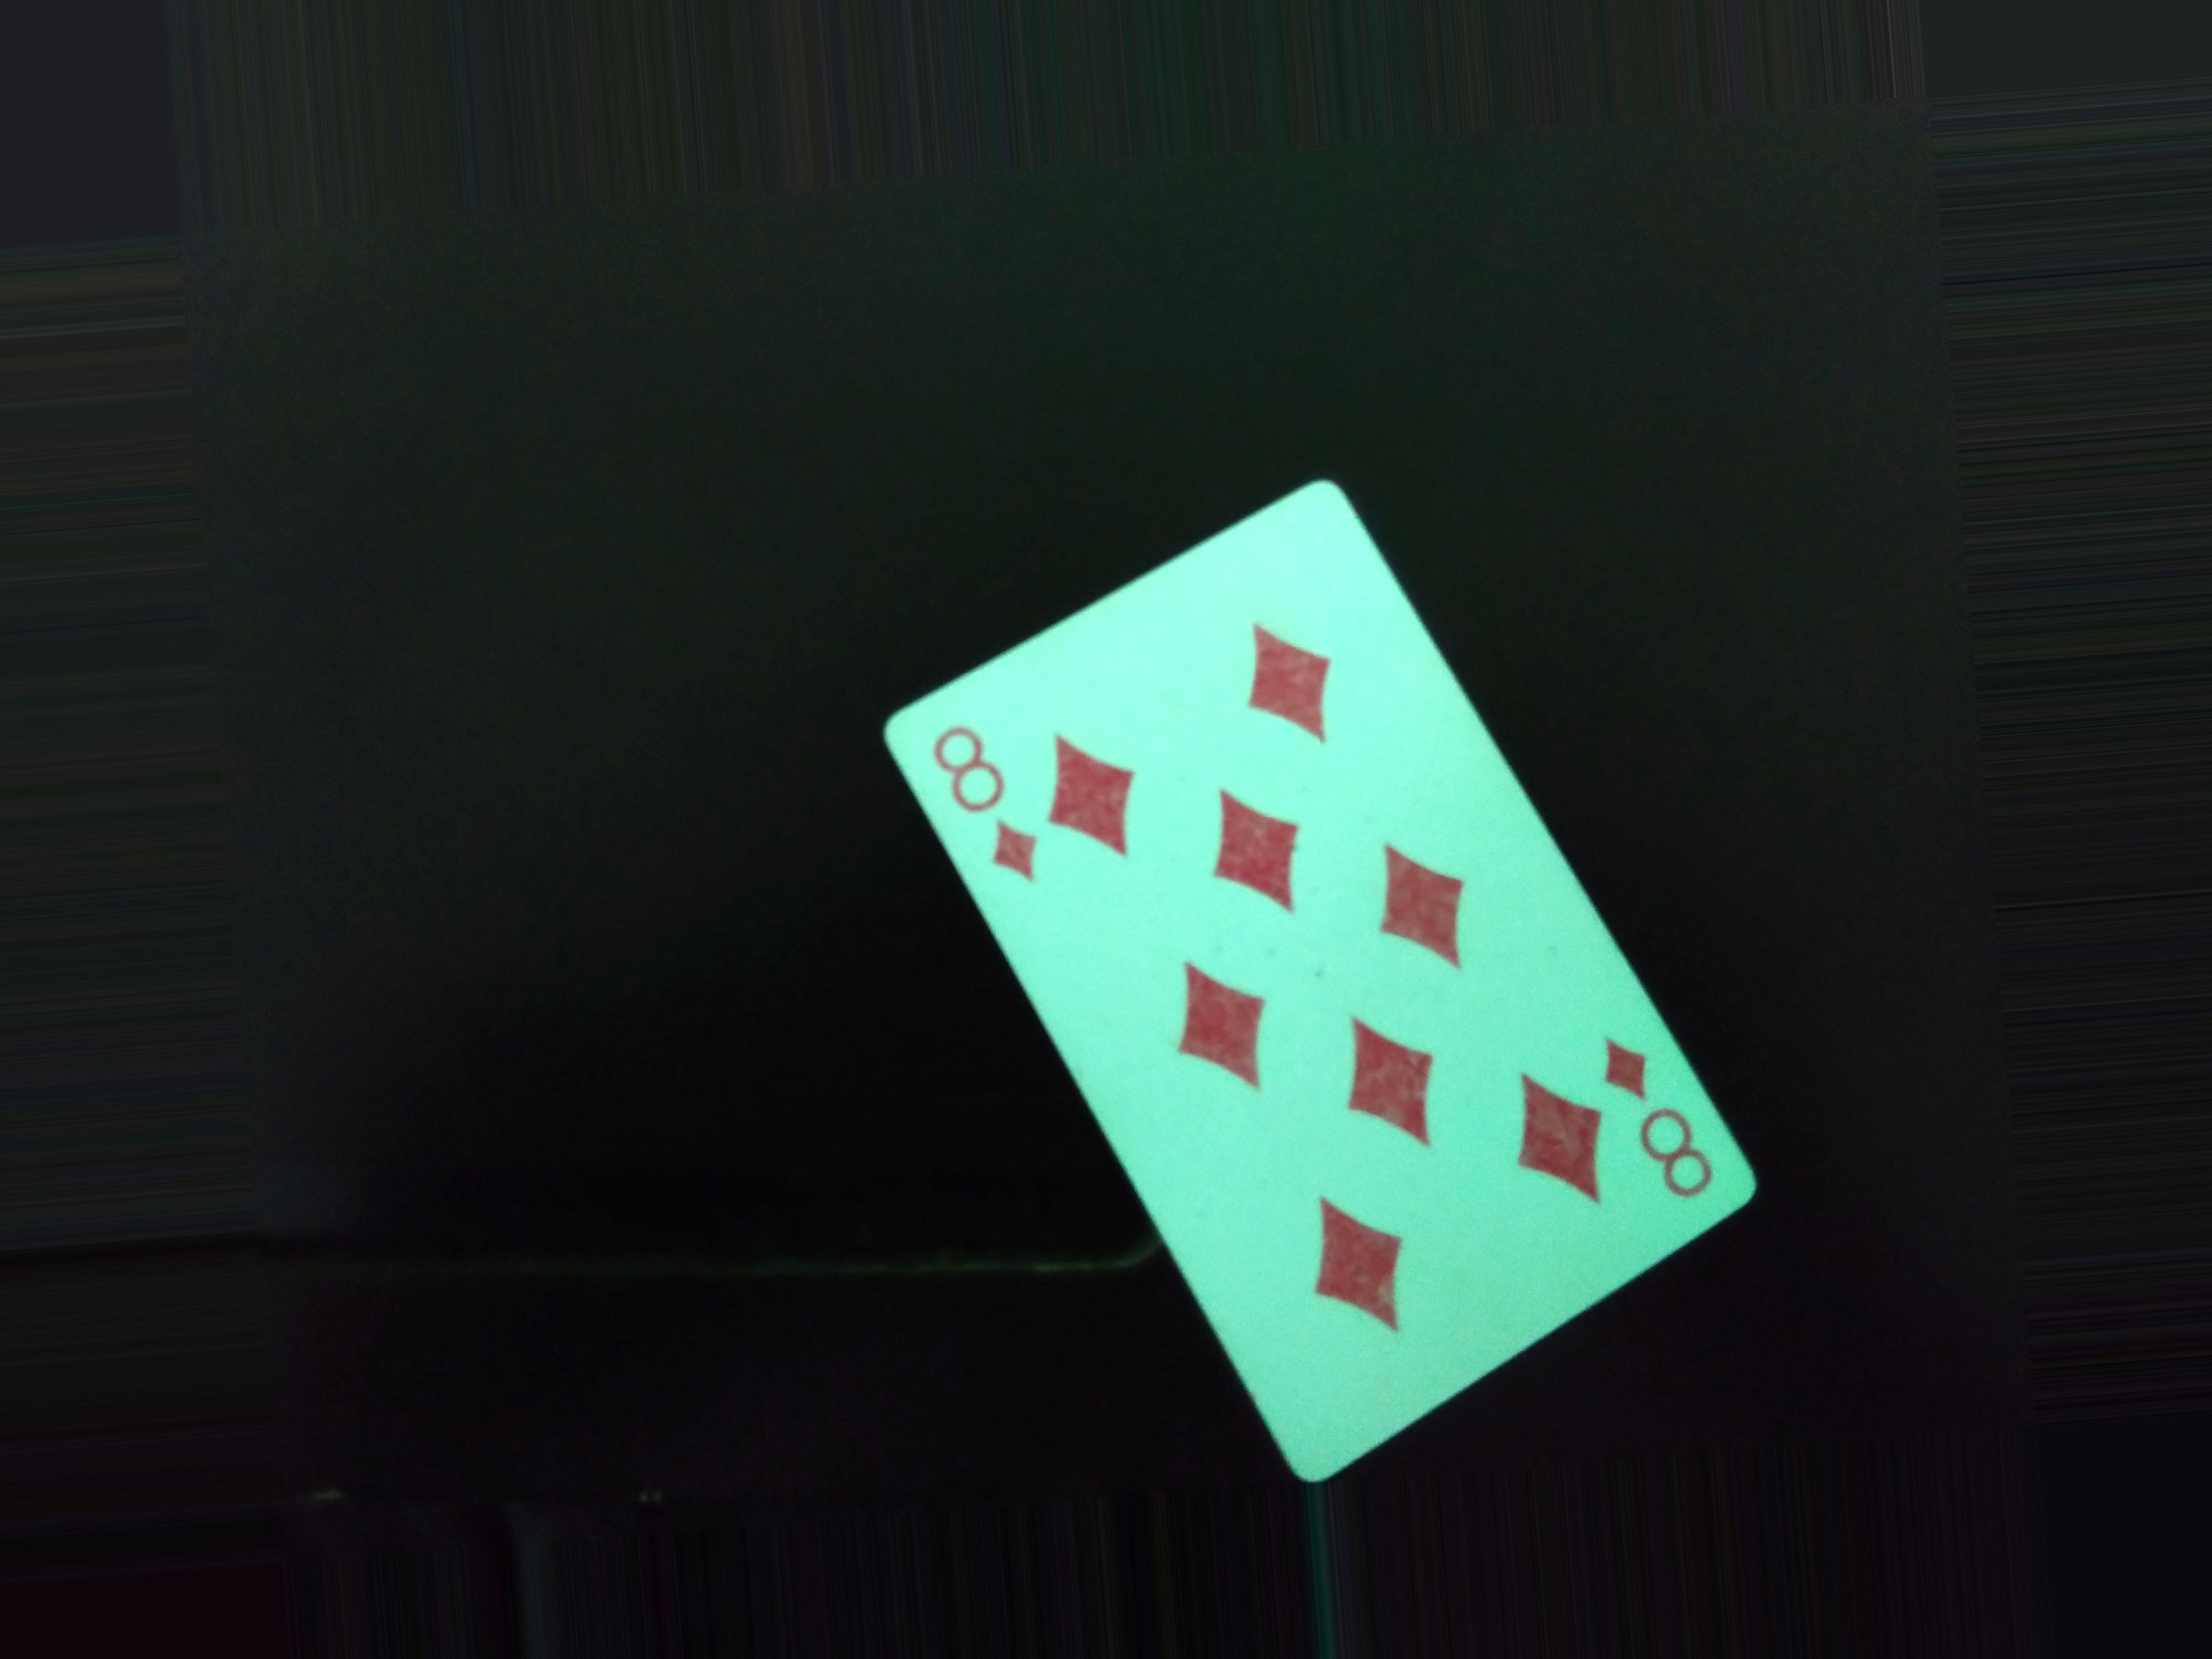8D: (1587, 1025, 1749, 1220)
